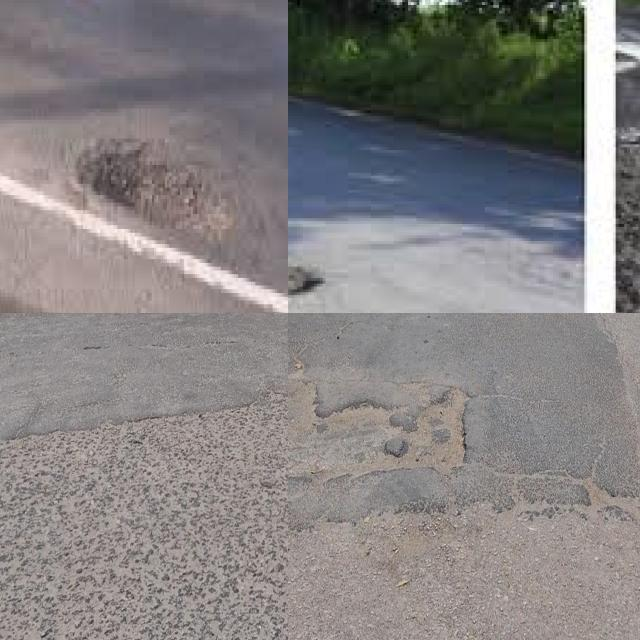Pothole: (77, 139, 201, 214), (384, 383, 473, 475), (314, 397, 388, 481)
